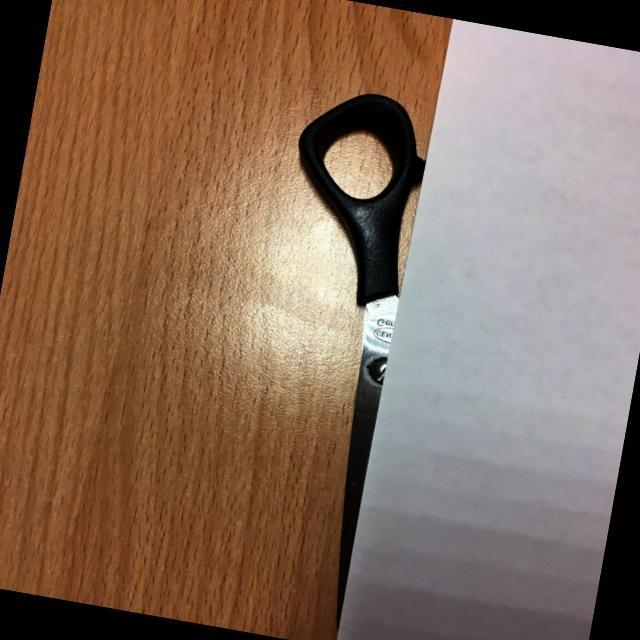scissors: (214, 81, 432, 634)
